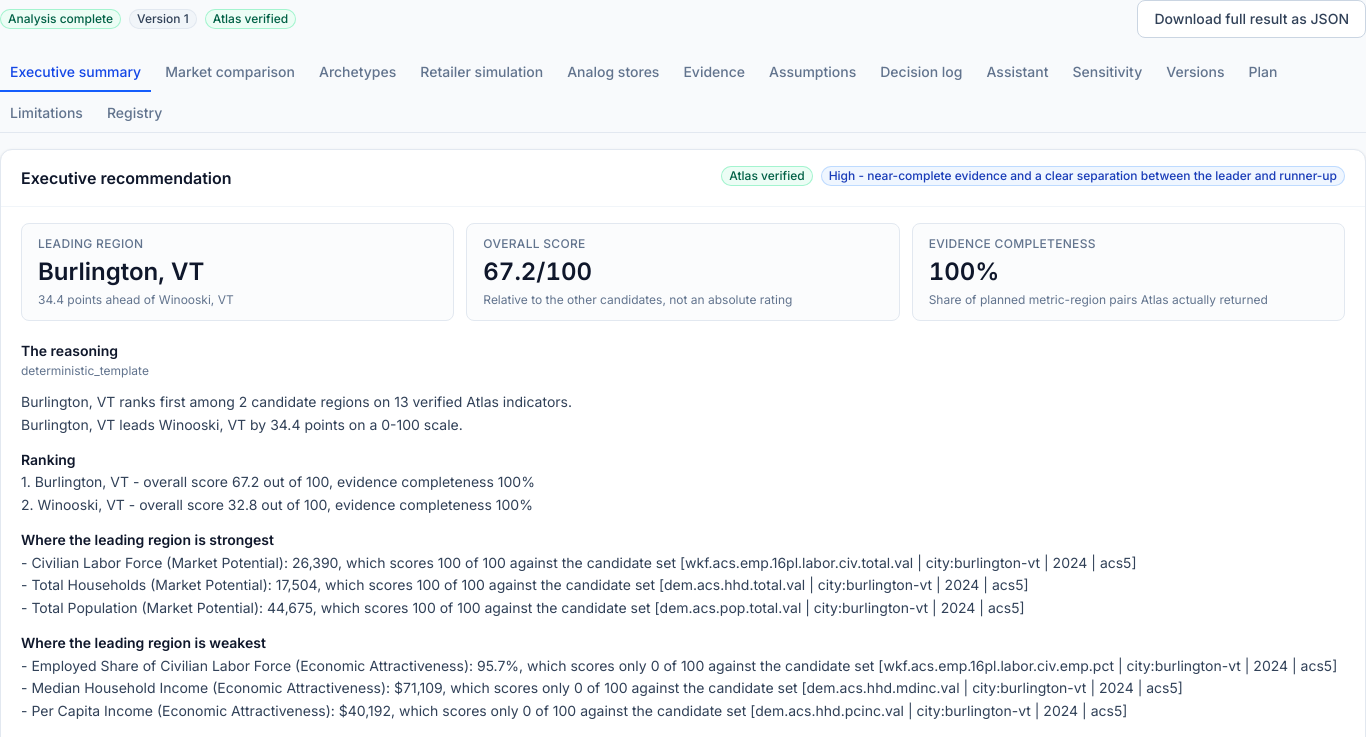
Test case: SimulationPanel › shows simulated retailer banner and never claims real GAP data
Click the tab "Retailer simulation": (482, 73) [410, 54, 553, 92]
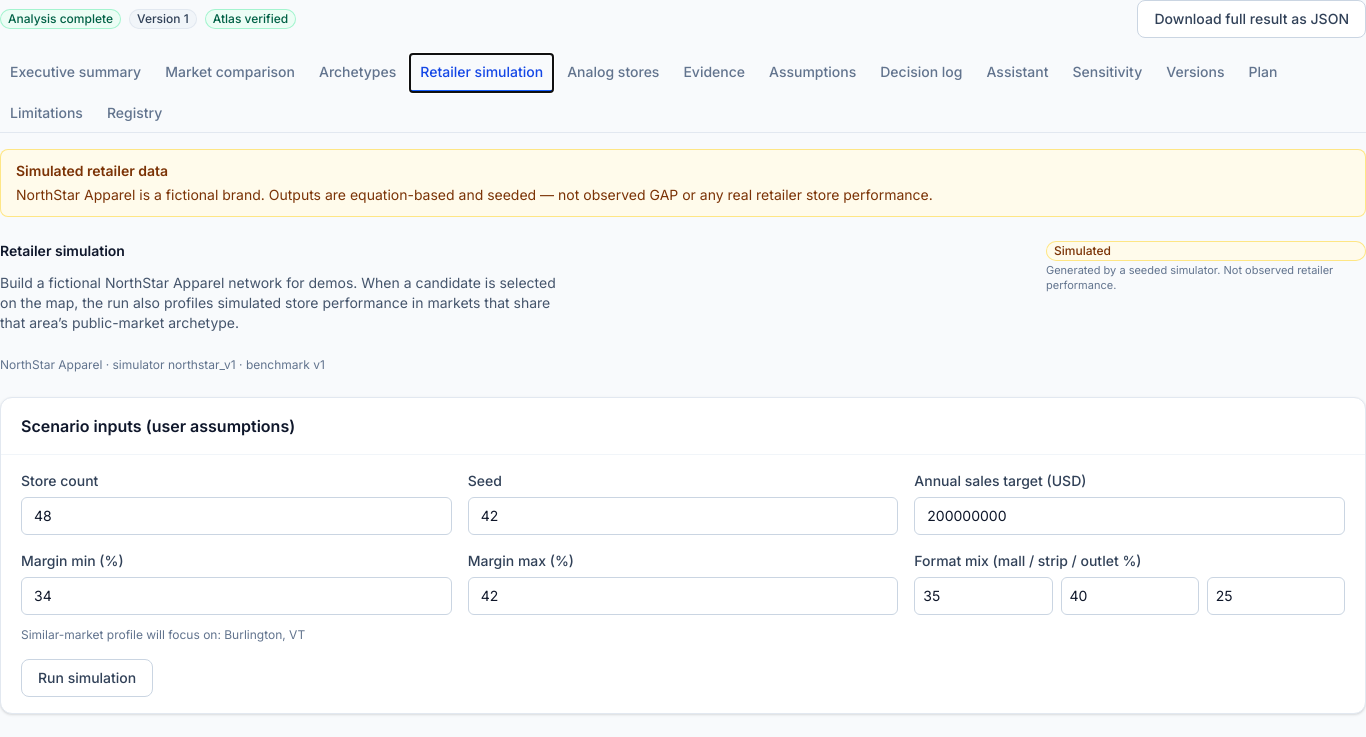
Result: the text "Simulated retailer data" is shown at [16, 162, 168, 179]
Result: the text "NorthStar Apparel is a fictional brand" is shown at [16, 186, 933, 203]
